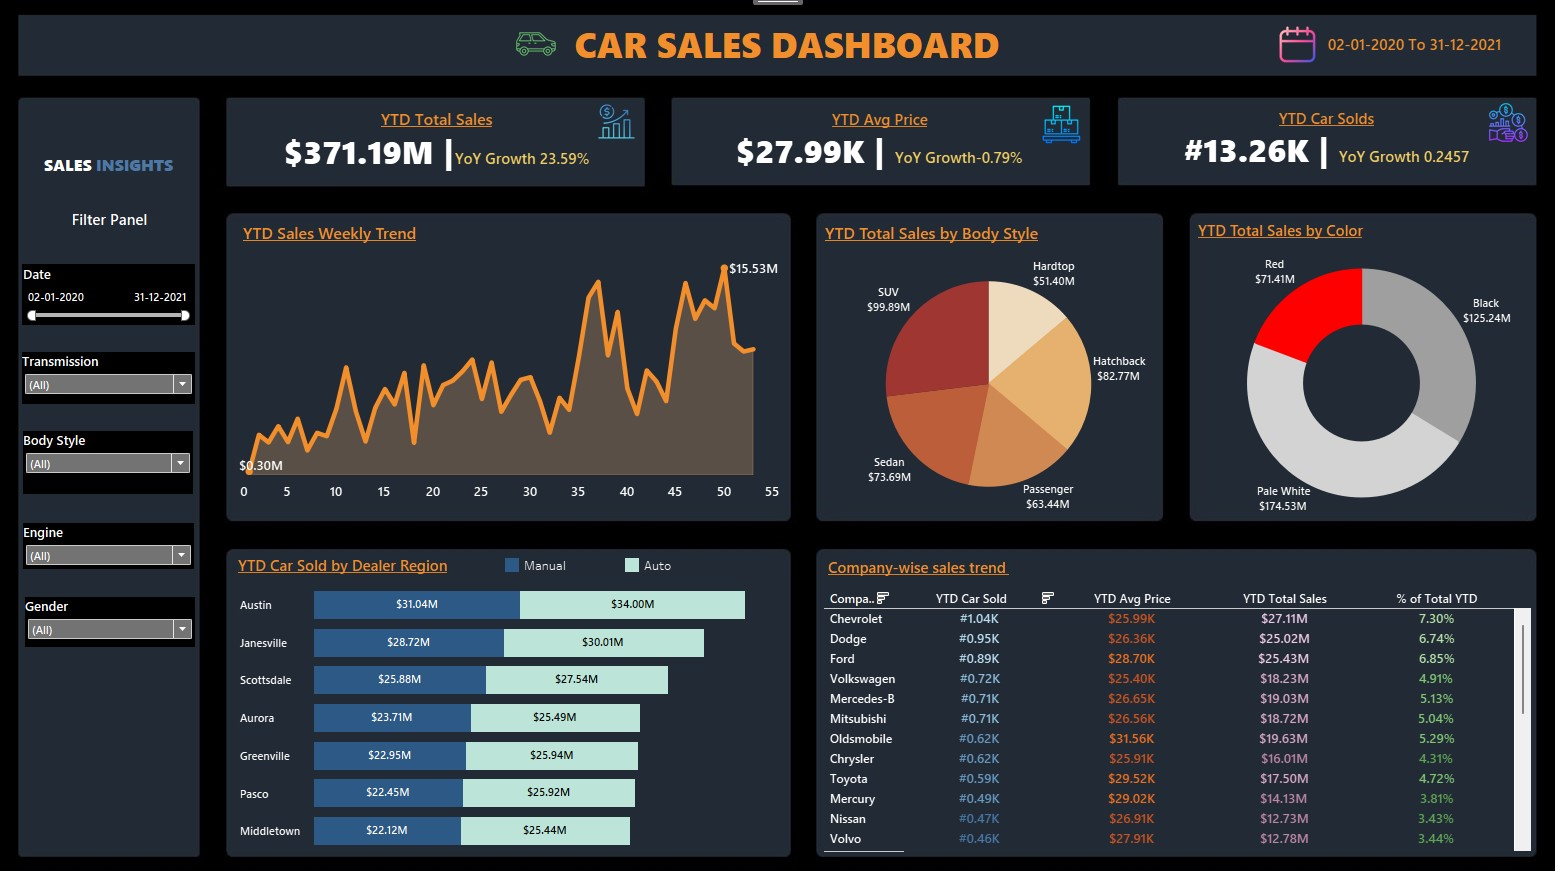

The dashboard page shown, as its layout file describes it:
{"tool":"tableau","page":{"name":"CAR SALES DASHBOARD","canvas":[1600,900],"ordinal":0},"visuals":[{"type":"image","param":"C:/Users/Satyam Baviskar/Desktop/Shivam Baviskar/Study/tableau/Project self/Car ","box":[8,8,1584,884]},{"type":"image","param":"C:/Users/Satyam Baviskar/Desktop/Shivam Baviskar/Study/tableau/Project self/Imag","box":[524,34,68,47]},{"type":"text","box":[594,34,430,47]},{"type":"worksheet","title":"Date Range","mark":"Automatic","box":[1324,34,227,49]},{"type":"image","param":"C:/Users/Satyam Baviskar/Desktop/Shivam Baviskar/Study/tableau/Project self/Imag","box":[1297,38,44,40]},{"type":"image","param":"C:/Users/Satyam Baviskar/Desktop/Shivam Baviskar/Study/tableau/Project self/Imag","box":[616,115,44,40]},{"type":"worksheet","title":"YTD Avg Price","mark":"Automatic","box":[698,115,408,79]},{"type":"worksheet","title":"YTD Car Sold","mark":"Automatic","box":[1144,116,410,76]},{"type":"image","param":"C:/Users/Satyam Baviskar/Desktop/Shivam Baviskar/Study/tableau/Project self/Imag","box":[1508,116,44,40]},{"type":"worksheet","title":"YTD Total Sales","mark":"Automatic","box":[257,118,404,74]},{"type":"image","param":"C:/Users/Satyam Baviskar/Desktop/Shivam Baviskar/Study/tableau/Project self/Imag","box":[1061,118,44,40]},{"type":"text","box":[42,159,177,39]},{"type":"text","box":[43,213,177,39]},{"type":"worksheet","title":"YTD Total Sales by Color","mark":"Pie","rows":["Calculation_1677309390625513481","Calculation_1677309390626181131"],"box":[1216,230,335,299]},{"type":"worksheet","title":"YTD Sales Weekly Trend","mark":"Area","rows":["Calculation_1625517994231177217","Calculation_1625517994231177217"],"cols":["Date"],"box":[261,232,543,287]},{"type":"worksheet","title":"YTD Total Sales by Body Style","mark":"Pie","box":[843,232,335,295]},{"type":"filter","title":"YTD Sales Weekly Trend","param":"[federated.001j3ku09f8jjw12zp5on0ia5x7a].[none:Date:qk]","box":[44,278,173,61]},{"type":"filter","title":"YTD Sales Weekly Trend","param":"[federated.001j3ku09f8jjw12zp5on0ia5x7a].[none:Transmission:nk]","box":[44,366,173,52]},{"type":"filter","title":"YTD Sales Weekly Trend","param":"[federated.001j3ku09f8jjw12zp5on0ia5x7a].[none:Body Style:nk]","box":[45,445,170,63]},{"type":"filter","title":"YTD Sales Weekly Trend","param":"[federated.001j3ku09f8jjw12zp5on0ia5x7a].[none:Engine:nk]","box":[45,537,171,46]},{"type":"worksheet","title":"YTD Car Sold by Dealer Region","mark":"Automatic","rows":["Dealer_Region"],"cols":["Calculation_1625517994231177217"],"box":[256,565,533,299]},{"type":"worksheet","title":"Company-wise sales trend ","mark":"Automatic","rows":["Company"],"box":[846,567,707,299]},{"type":"legend","title":"YTD Car Sold by Dealer Region","param":"[federated.001j3ku09f8jjw12zp5on0ia5x7a].[none:Transmission:nk]","box":[524,569,283,33]},{"type":"filter","title":"YTD Sales Weekly Trend","param":"[federated.001j3ku09f8jjw12zp5on0ia5x7a].[none:Gender:nk]","box":[47,611,170,50]}]}

Visuals, with their boxes in screenshot pixels (x1, y1, x2, y2), scaled from the page's 1600x900 canvas onto the 1555x871 screenshot:
image: 8:8:1547:863
image: 509:33:575:78
text: 577:33:995:78
"Date Range" worksheet: 1287:33:1507:80
image: 1261:37:1303:75
image: 599:111:641:150
"YTD Avg Price" worksheet: 678:111:1075:188
"YTD Car Sold" worksheet: 1112:112:1510:186
image: 1466:112:1508:151
"YTD Total Sales" worksheet: 250:114:642:186
image: 1031:114:1074:153
text: 41:154:213:192
text: 42:206:214:244
"YTD Total Sales by Color" worksheet (Pie marks): 1182:223:1507:512
"YTD Sales Weekly Trend" worksheet (Area marks): 254:225:781:502
"YTD Total Sales by Body Style" worksheet (Pie marks): 819:225:1145:510
"YTD Sales Weekly Trend" filter: 43:269:211:328
"YTD Sales Weekly Trend" filter: 43:354:211:405
"YTD Sales Weekly Trend" filter: 44:431:209:492
"YTD Sales Weekly Trend" filter: 44:520:210:564
"YTD Car Sold by Dealer Region" worksheet: 249:547:767:836
"Company-wise sales trend " worksheet: 822:549:1509:838
"YTD Car Sold by Dealer Region" legend: 509:551:784:583
"YTD Sales Weekly Trend" filter: 46:591:211:640
